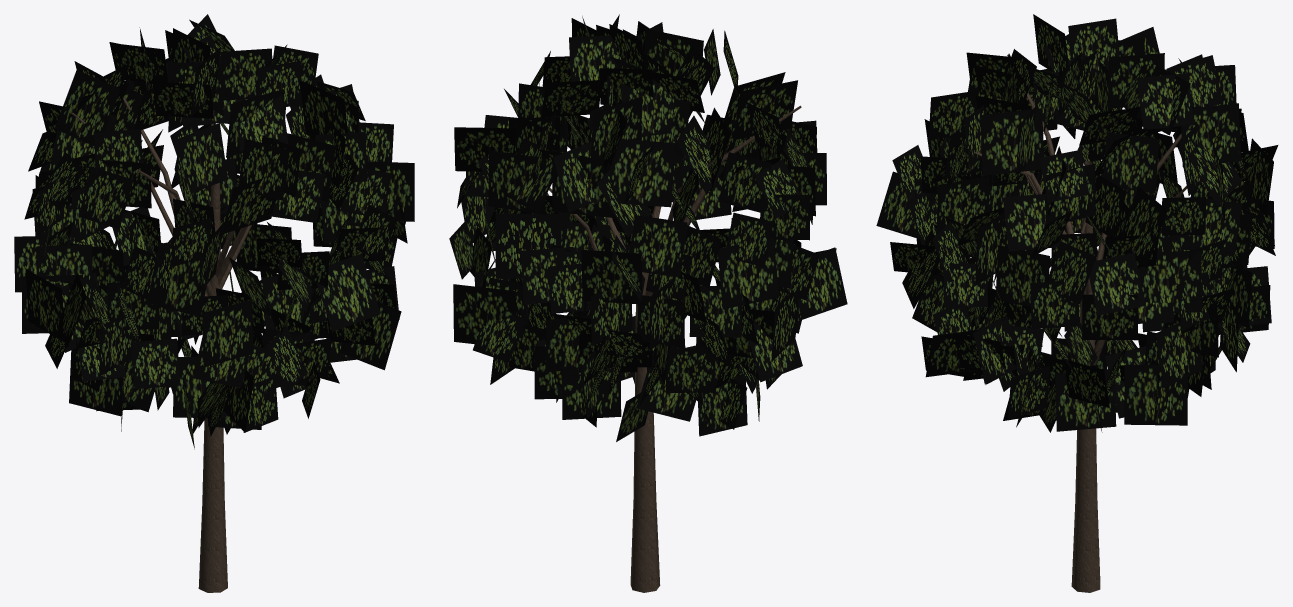
File: tpl_farm_tall_yard_ash.glb
The picture shows the model from 3 angles, left to right: view 1: azimuth 30°, elevation 25°; view 2: azimuth 150°, elevation 25°; view 3: azimuth 270°, elevation 25°; orthographic projection.
Visible parts, largest first — view 1: tpl_farm_tall_yard_ash; view 2: tpl_farm_tall_yard_ash; view 3: tpl_farm_tall_yard_ash.
Part boxes in pixels (box(x1,y1,x2,y2)): tpl_farm_tall_yard_ash: box(14, 14, 414, 592); tpl_farm_tall_yard_ash: box(449, 14, 847, 592); tpl_farm_tall_yard_ash: box(876, 14, 1278, 592).
Bounding box in the file's own units: 11.93 × 17.93 × 11.83.
Materials: 2 (2 with a texture image).
